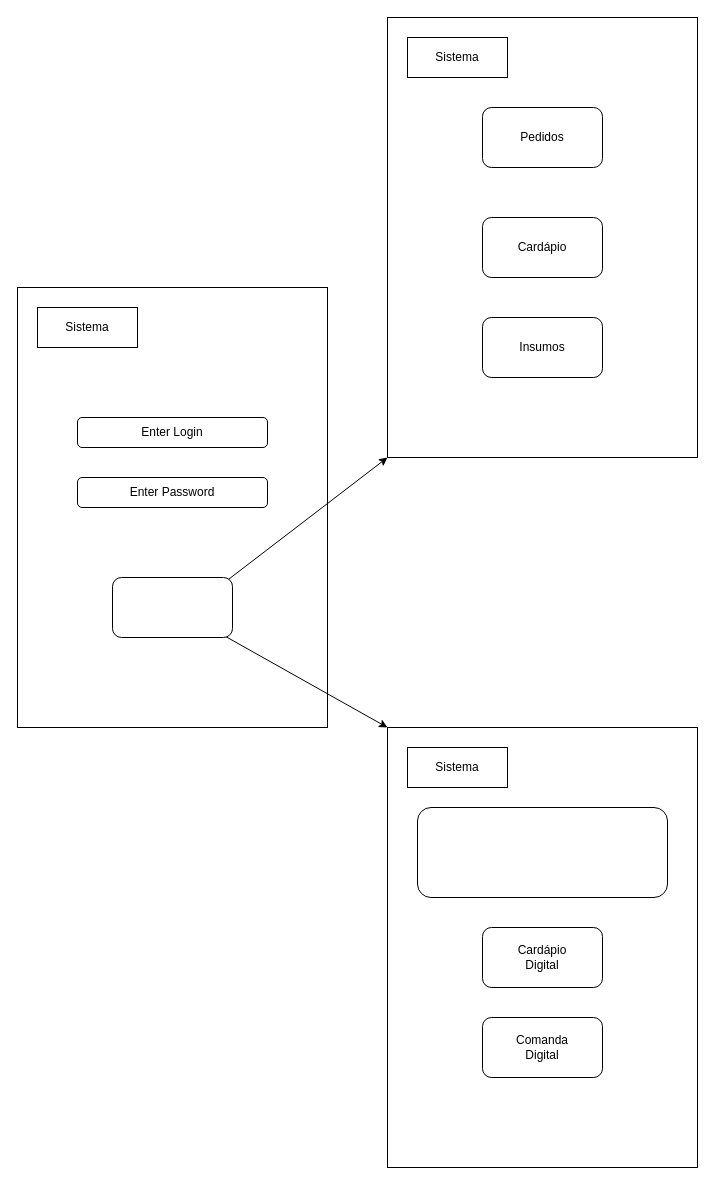
Image size: 715x1185. Some labels were removed from this diagram. Here are the shapes that lost their labels. From the top down, the box of each, then its label:
(112, 576, 232, 638): Log In
(416, 806, 668, 898): Mostra quais mesas chamaram garçom
